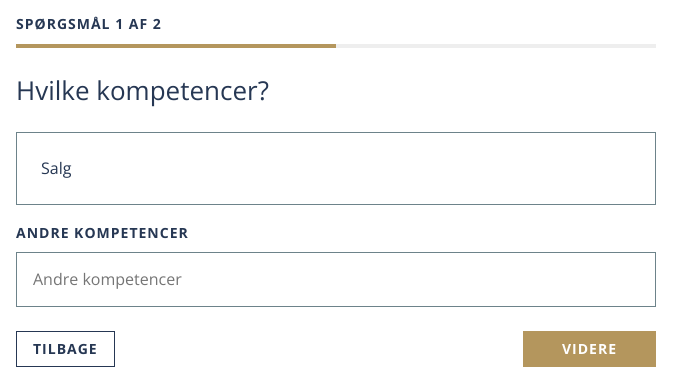
Test: OnboardingFlow — conversational ejer-flow › gater Videre til spørgsmålet er besvaret og navigerer trin for trin
This screenshot has width=673, height=384.
expect the text "Spørgsmål 1 af 2" is shown: met, box [16, 14, 162, 33]
expect the button "Videre" is disabled: met, box [523, 331, 656, 367]
Click the button "Salg": (56,168) [16, 132, 656, 205]
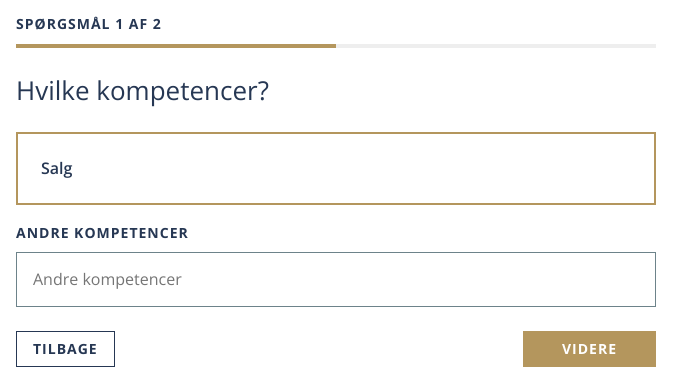
Click the button "Videre": (590,349) [523, 331, 656, 367]
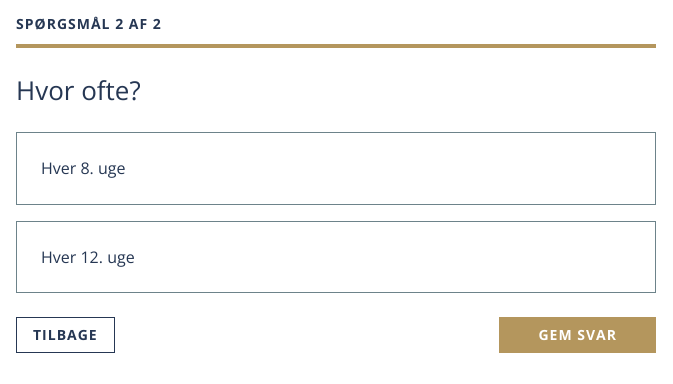
expect the text "Spørgsmål 2 af 2" is shown: met, box [16, 14, 162, 33]
expect the button "Gem svar" is disabled: met, box [500, 317, 656, 353]
